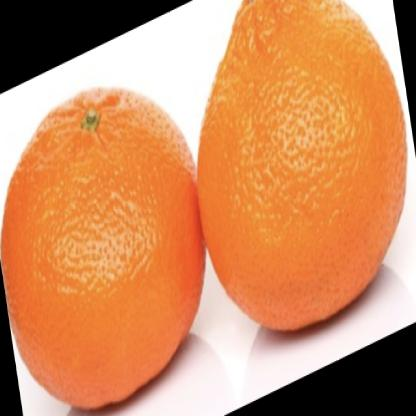fresh: (2, 1, 411, 416)
